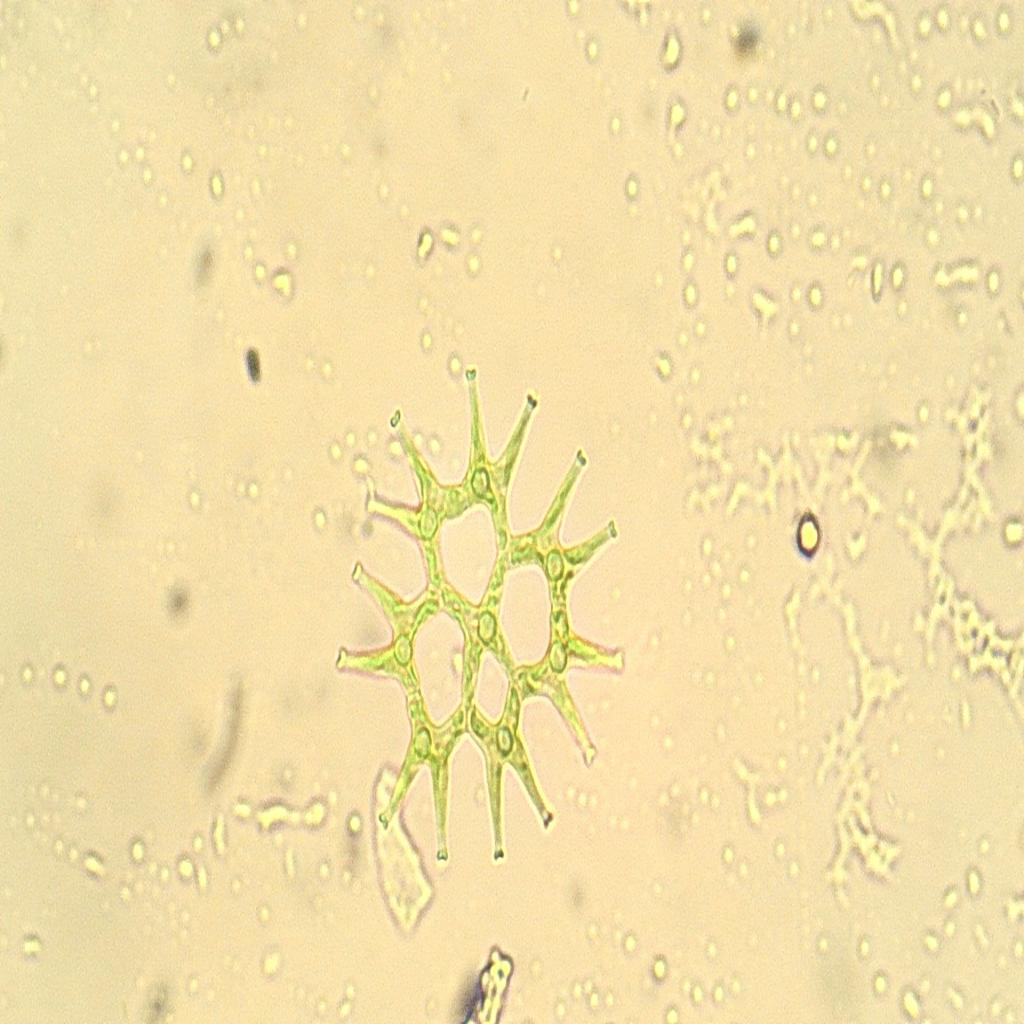Pediastrum_CTH: (323, 330, 649, 897)
